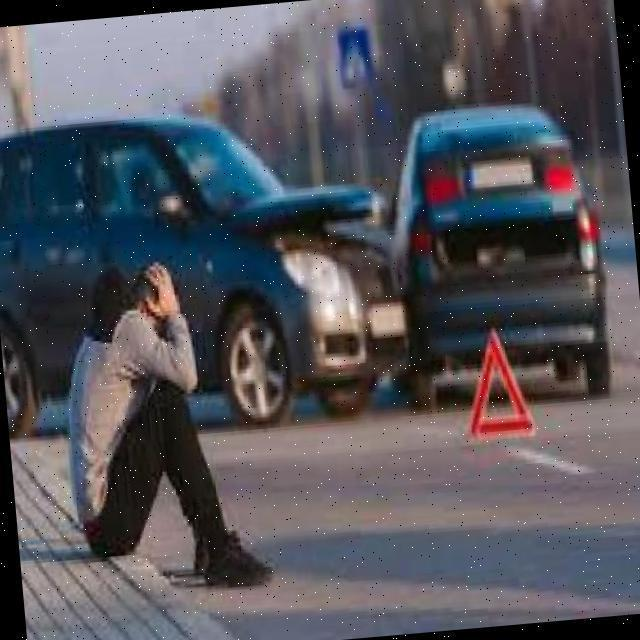accident: (0, 57, 616, 444)
